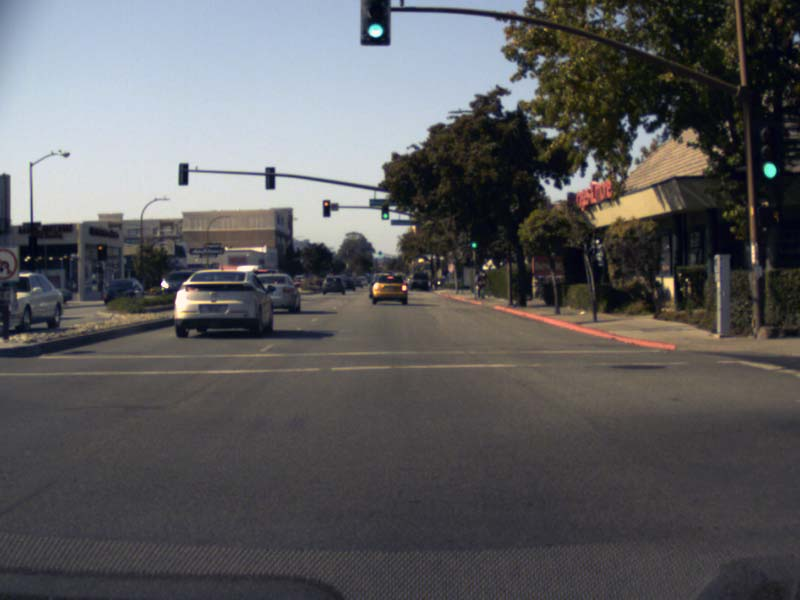Green: (761, 116, 783, 184), (381, 205, 388, 220), (470, 240, 478, 248)
Red: (97, 244, 105, 260), (322, 200, 329, 217)
